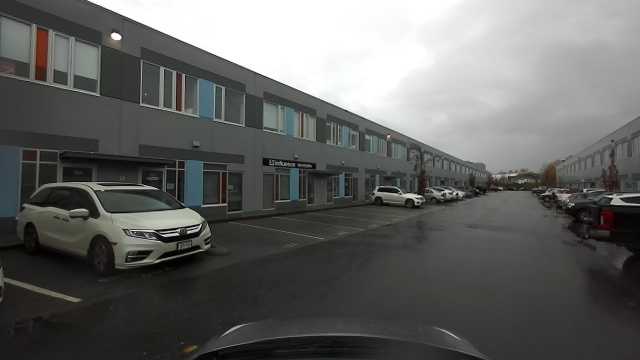car: (17, 175, 213, 275), (371, 182, 422, 209)
